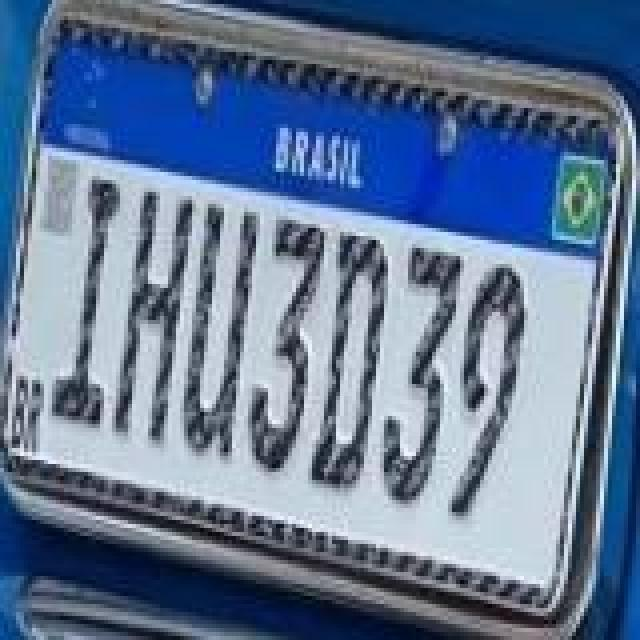3: (382, 242, 466, 510), (248, 212, 328, 476)
9: (444, 258, 532, 526)
D: (306, 228, 390, 492)
H: (114, 186, 198, 446)
I: (50, 176, 126, 432)
U: (182, 196, 266, 460)
